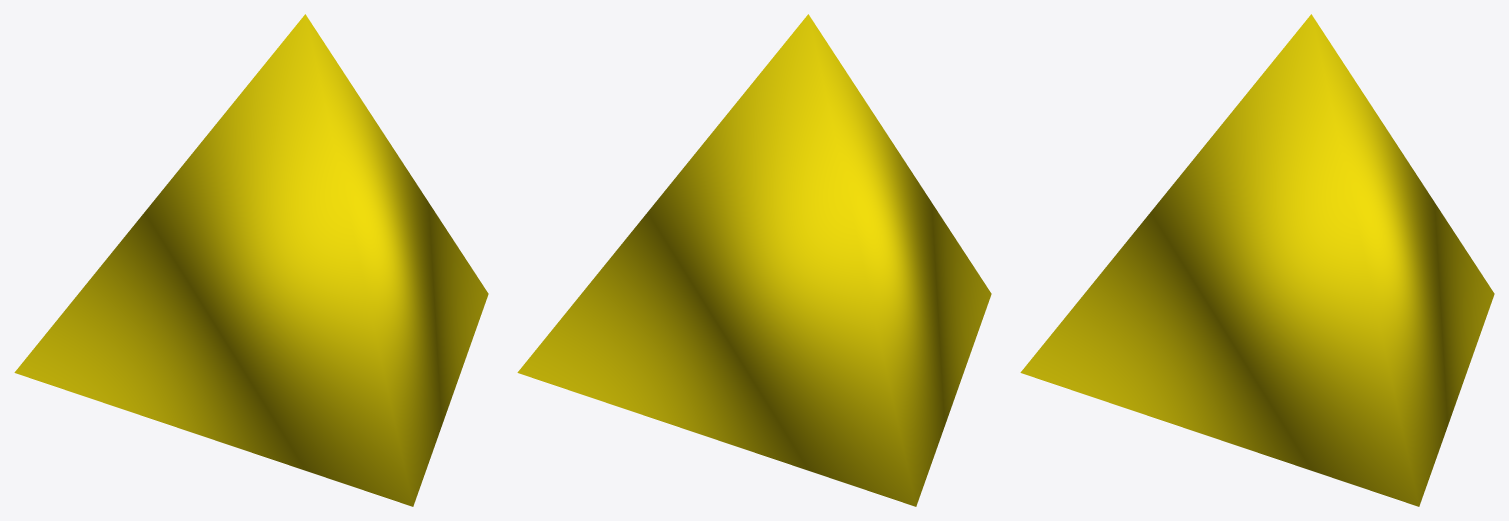
File: Triangulo.fbx
3 renders of one model, left to right at view 1: azimuth 30°, elevation 25°; view 2: azimuth 150°, elevation 25°; view 3: azimuth 270°, elevation 25°, orthographic.
Visible parts, largest first — view 1: Tetraedro.007; view 2: Tetraedro.007; view 3: Tetraedro.007.
Part boxes in pixels (left/top/right/bottom): Tetraedro.007: left=14, top=14, right=488, bottom=506; Tetraedro.007: left=517, top=14, right=991, bottom=506; Tetraedro.007: left=1020, top=14, right=1494, bottom=506.
Bounding box in the file's own units: 34.66 × 28.62 × 32.61.
